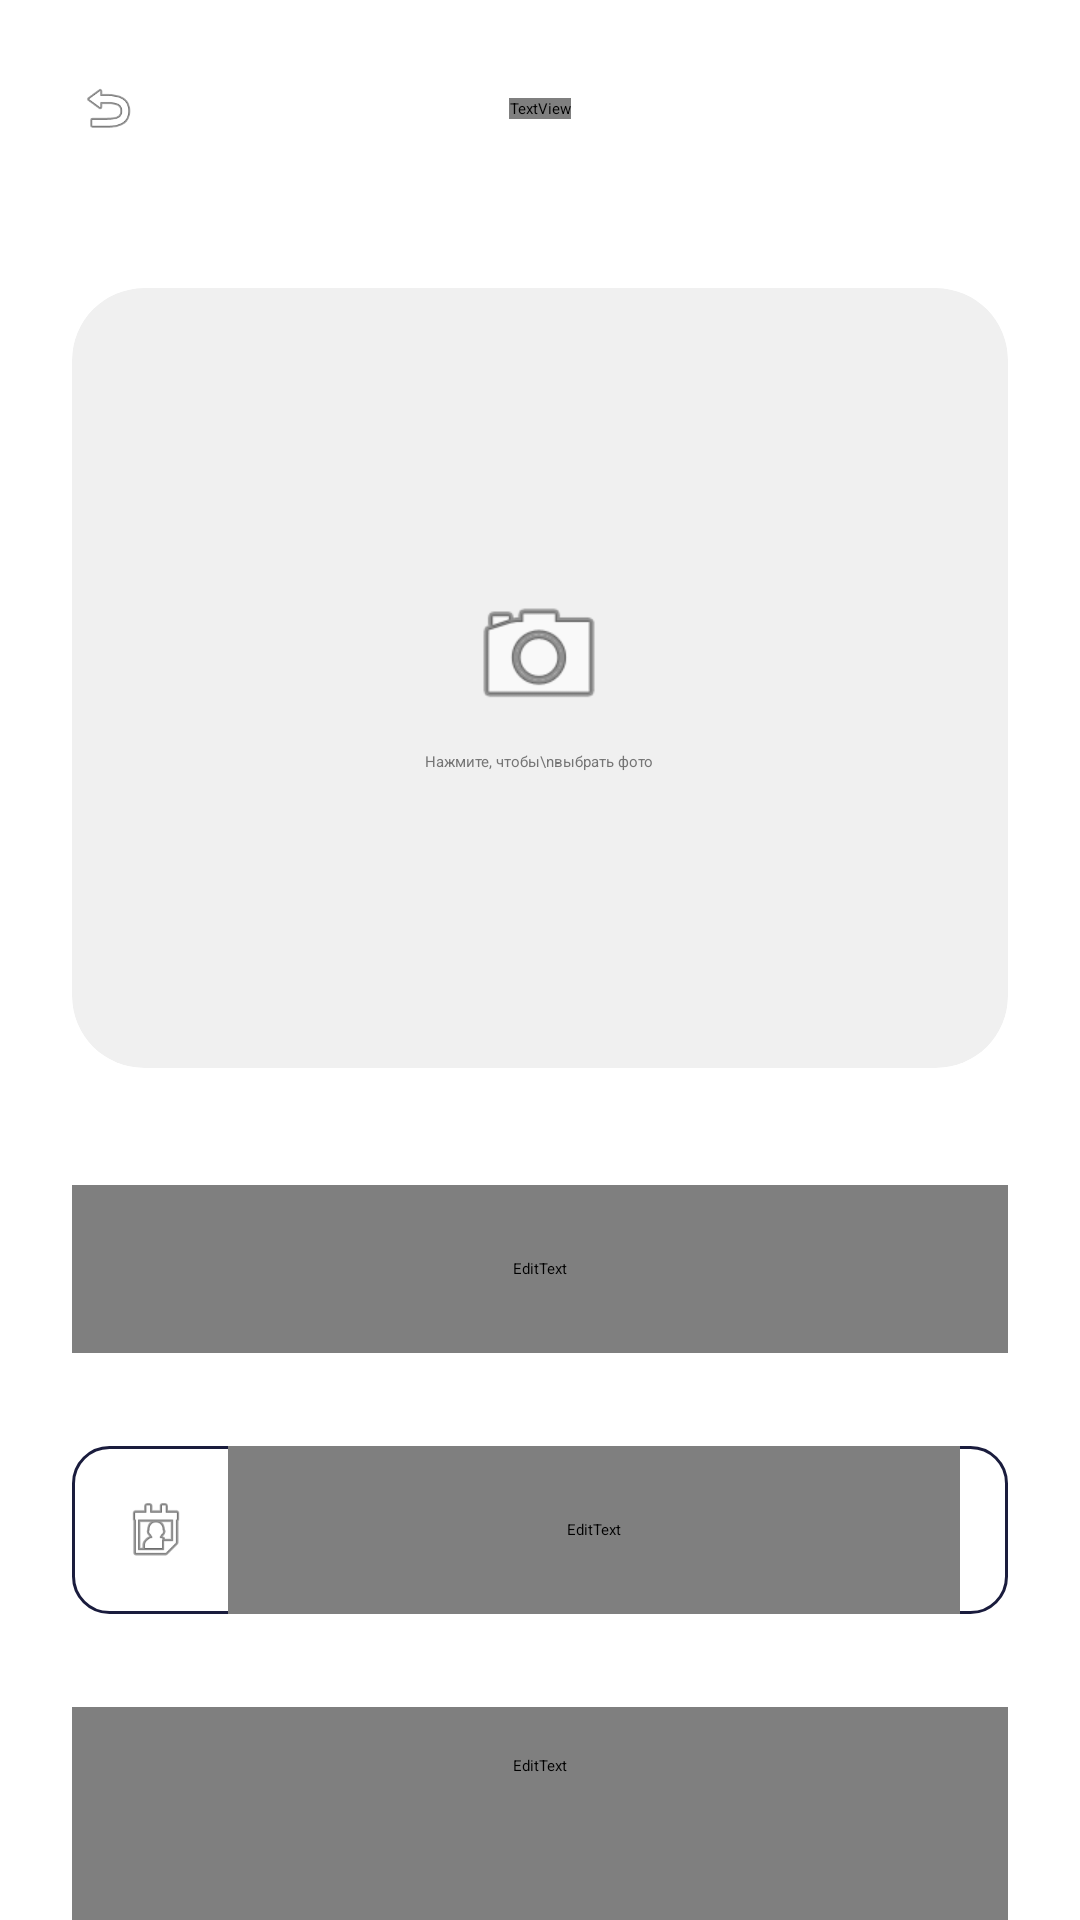

Icon bounding boxes for this 1080×1920 phone screenshot, format (x1, y1, x2, y2):
calendar: (133, 1503, 179, 1556)
camera: (483, 608, 595, 698)
revert: (87, 89, 131, 128)
